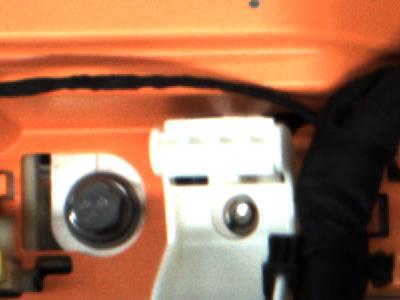nut_b: (61, 167, 144, 250)
